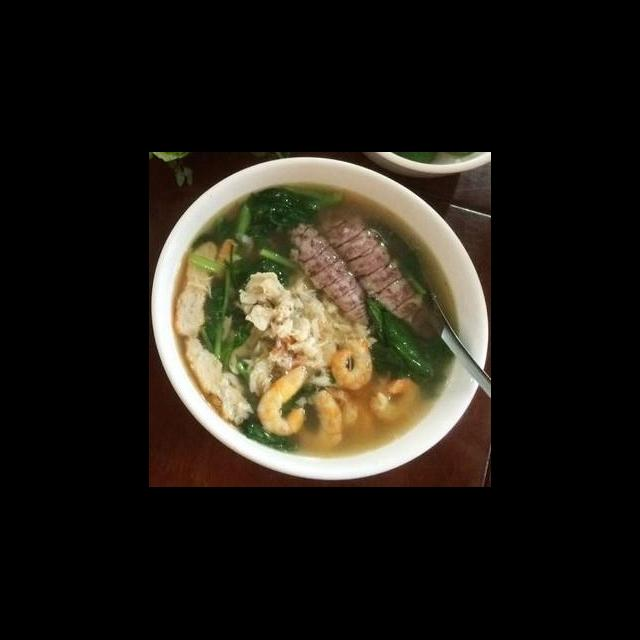tom: (248, 363, 315, 438), (367, 376, 425, 426), (329, 336, 377, 394)
tom tit: (316, 205, 432, 332), (281, 218, 375, 330)
